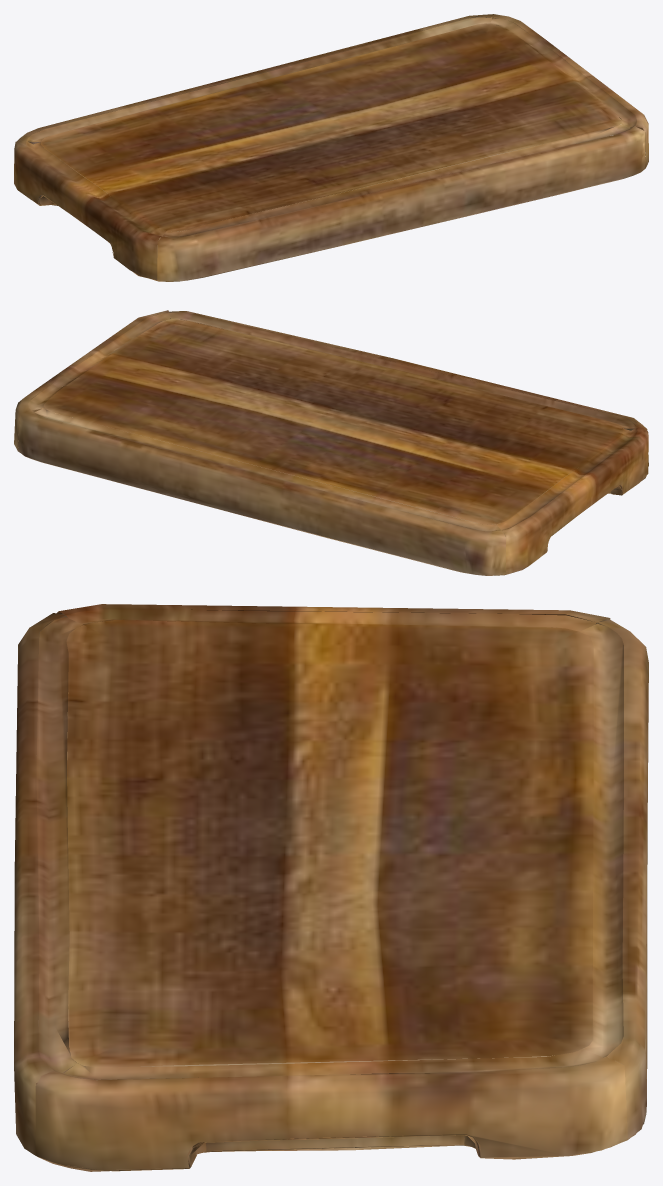
File: wooden_cutting_board.glb
3 renders of one model, top to bottom at view 1: azimuth 30°, elevation 25°; view 2: azimuth 150°, elevation 25°; view 3: azimuth 270°, elevation 25°, orthographic. The views are drawn at different scales.
Parts seen in each view (by area): view 1: wooden_cutting_board; view 2: wooden_cutting_board; view 3: wooden_cutting_board.
Part boxes in pixels (x1,y1,x2,y2): wooden_cutting_board: (14,14,648,281); wooden_cutting_board: (14,310,648,575); wooden_cutting_board: (14,604,648,1171).
Bounding box in the file's own units: 0.4504 × 0.0418 × 0.2466.
1 material, 1 textured.
